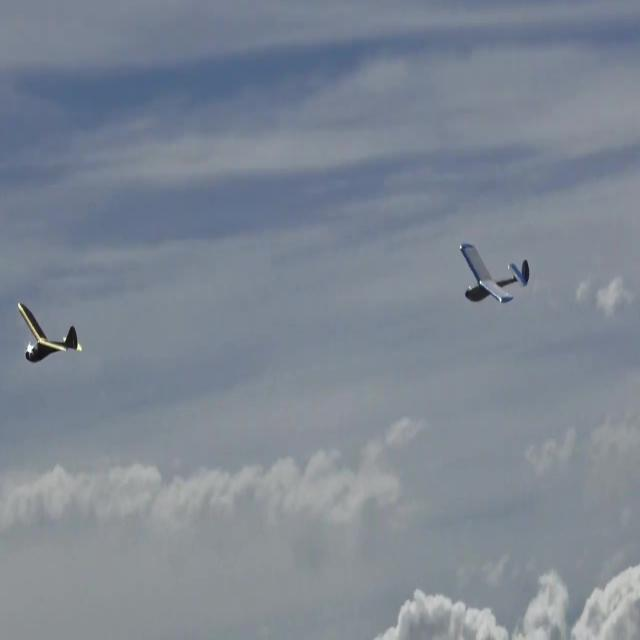iha: (492, 272, 495, 275)
